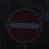No entry: (6, 6, 44, 44)
